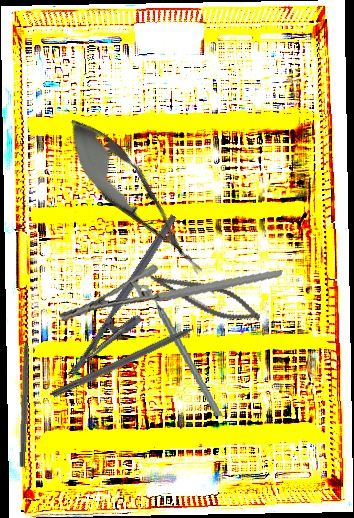Chopper: (134, 277, 225, 424)
Hook Surgical: (51, 316, 215, 400), (18, 322, 33, 468)
Micro Scissor: (50, 106, 220, 289), (143, 266, 265, 329)
Needle Holder: (57, 240, 283, 352), (66, 213, 199, 393)
